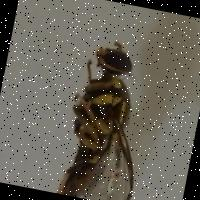Oriental-fruit-fly: (37, 18, 177, 200)
